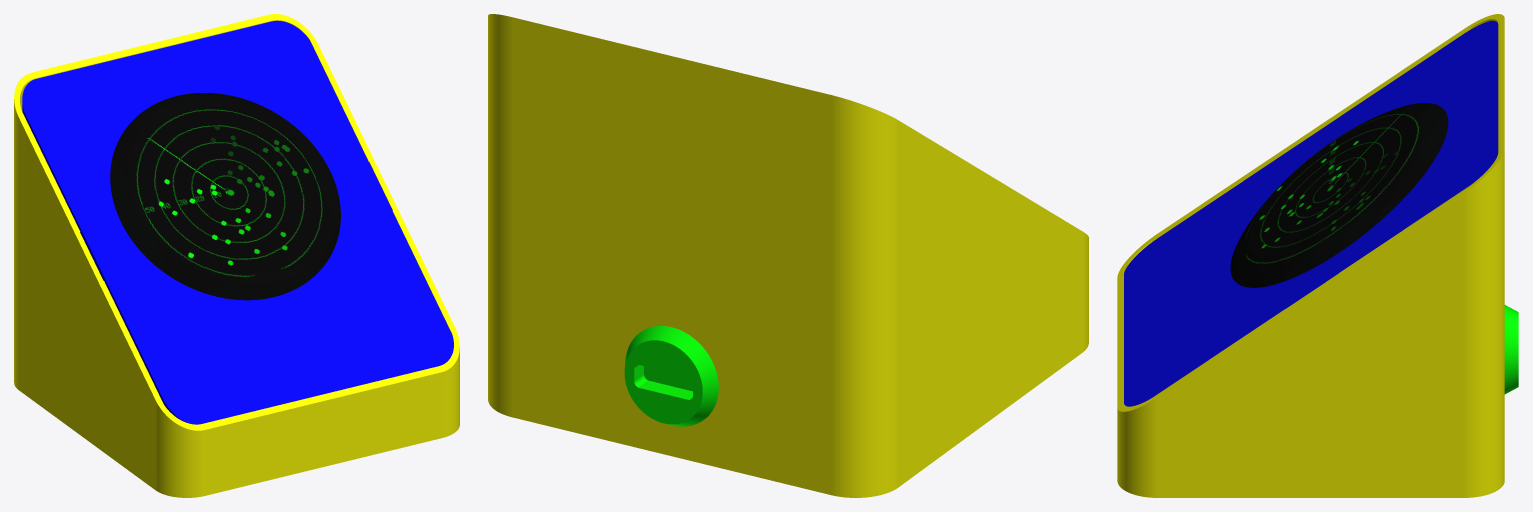
The model's file is radar_v7.glb.
3 views of the same model, side by side, from view 1: azimuth 30°, elevation 25°; view 2: azimuth 150°, elevation 25°; view 3: azimuth 270°, elevation 25° (orthographic). The views are drawn at different scales.
Parts seen in each view (by area): view 1: faceplate, body, screen; view 2: body, plug; view 3: body, faceplate, screen, plug.
Boxes of the visible parts, x1,y1,x2,y2 form: faceplate: (22,20,453,424); body: (14,14,459,497); screen: (110,93,340,300); body: (488,14,1088,497); plug: (624,326,718,426); body: (1117,14,1504,497); faceplate: (1124,21,1498,406); screen: (1230,103,1448,287); plug: (1504,305,1518,394).
Size of the model in its own units: 0.0603 by 0.0571 by 0.0625.
Materials: 4 (1 with a texture image).
